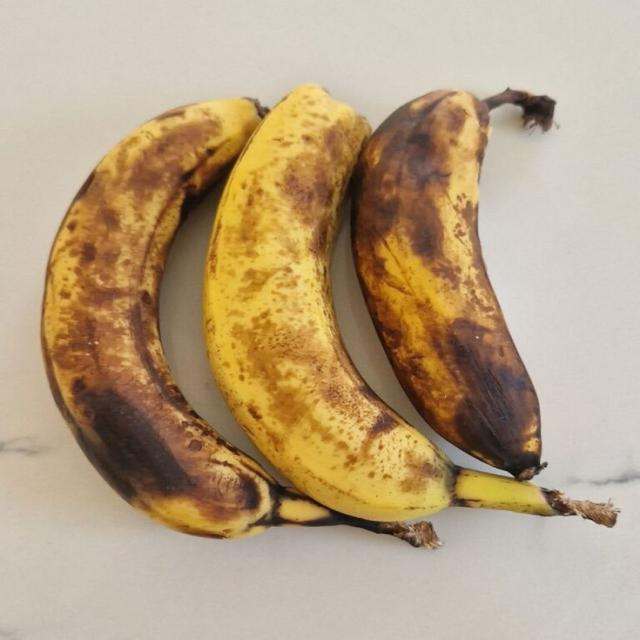unpeal banana: (204, 85, 615, 525), (42, 100, 429, 545), (352, 90, 554, 478)
